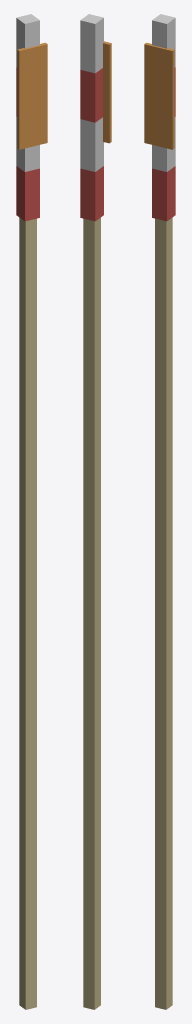
File: aurausviitta.glb
3 views of the same model, side by side, from view 1: azimuth 30°, elevation 25°; view 2: azimuth 150°, elevation 25°; view 3: azimuth 330°, elevation 25° (orthographic).
Parts seen in each view (by area): view 1: aurausviitta; view 2: aurausviitta; view 3: aurausviitta.
Part boxes in pixels (box(x1,y1,x2,y2)): aurausviitta: box(16, 14, 47, 1009); aurausviitta: box(80, 14, 111, 1009); aurausviitta: box(144, 14, 175, 1009).
Bounding box in the file's own units: 0.06 × 2 × 0.036.
